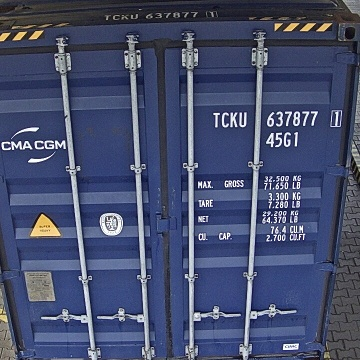serial_id: (213, 110, 341, 127)
